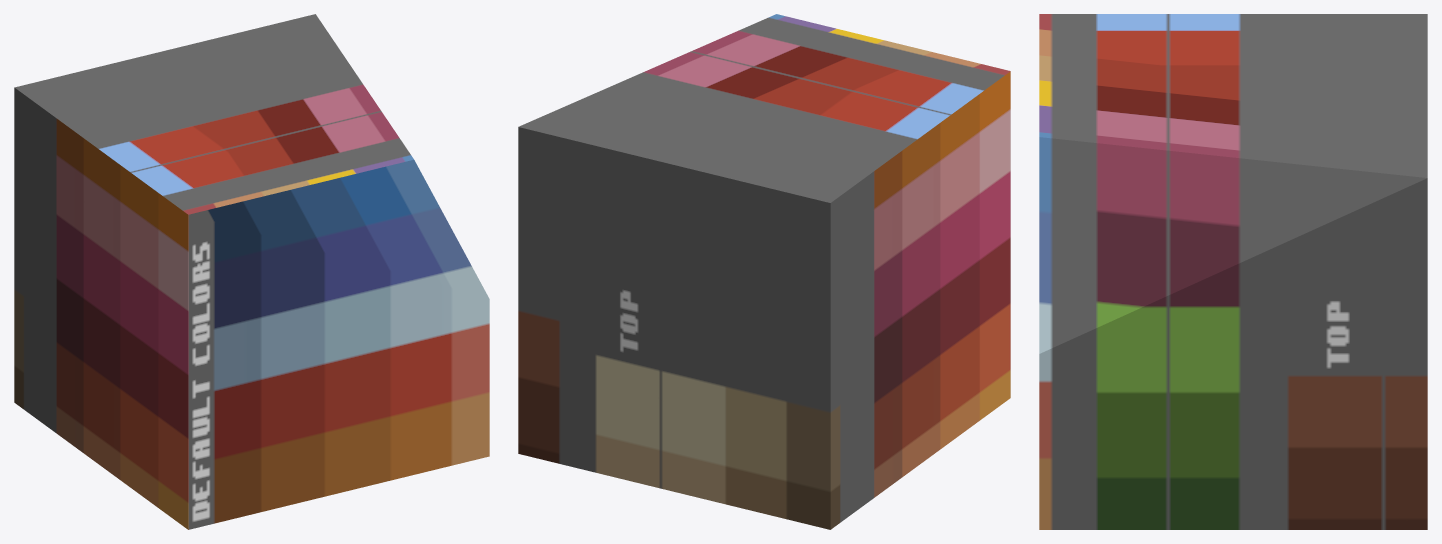
File: r5c4_collider.gltf
3 views of the same model, side by side, from view 1: azimuth 30°, elevation 25°; view 2: azimuth 150°, elevation 25°; view 3: azimuth 270°, elevation 25° (orthographic). The views are drawn at different scales.
Parts seen in each view (by area): view 1: r5c4_collider; view 2: r5c4_collider; view 3: r5c4_collider.
Part boxes in pixels (x1=…): r5c4_collider: x1=14, y1=14, x2=489, y2=529; r5c4_collider: x1=518, y1=14, x2=1010, y2=529; r5c4_collider: x1=1039, y1=14, x2=1427, y2=529.
Size of the model in its own units: 2 by 2 by 2.
Materials: 1 (1 with a texture image).
